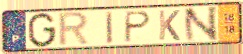G: (27, 12, 57, 49)
I: (105, 10, 114, 45)
K: (157, 9, 182, 42)
N: (182, 4, 221, 44)
P: (122, 10, 153, 44)
R: (57, 10, 91, 48)
